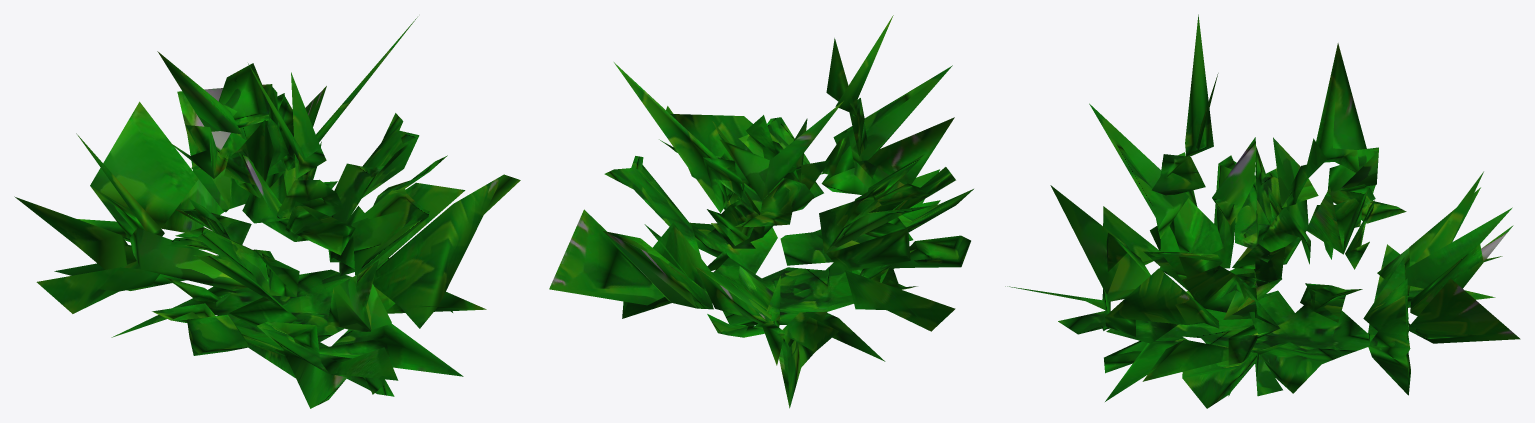
The model's file is arbusto 4.fbx.
3 views of the same model, side by side, from view 1: azimuth 30°, elevation 25°; view 2: azimuth 150°, elevation 25°; view 3: azimuth 270°, elevation 25° (orthographic). The views are drawn at different scales.
Visible parts, largest first — view 1: tripo_node_2783acbf; view 2: tripo_node_2783acbf; view 3: tripo_node_2783acbf.
Part boxes in pixels (<box>): tripo_node_2783acbf: <box>14,17,520,408</box>; tripo_node_2783acbf: <box>549,15,973,408</box>; tripo_node_2783acbf: <box>1005,14,1520,408</box>.
Size of the model in its own units: 0.7378 by 0.5696 by 0.855.
Materials: 1 (1 with a texture image).
